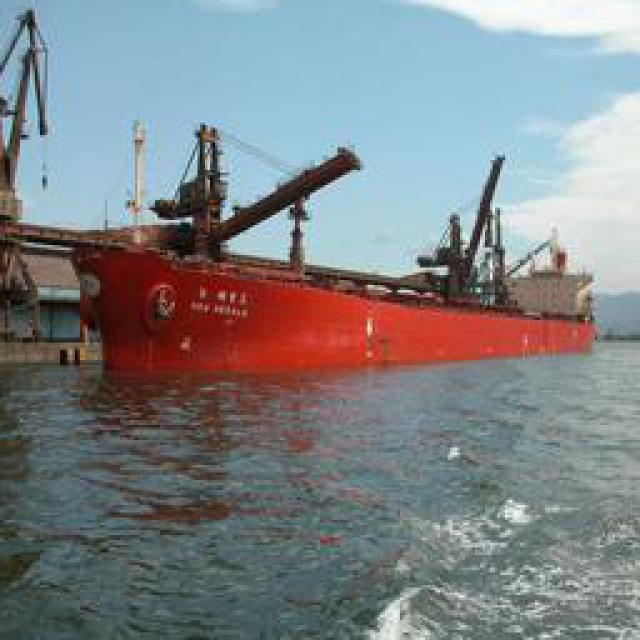Ship: (56, 123, 596, 371)
